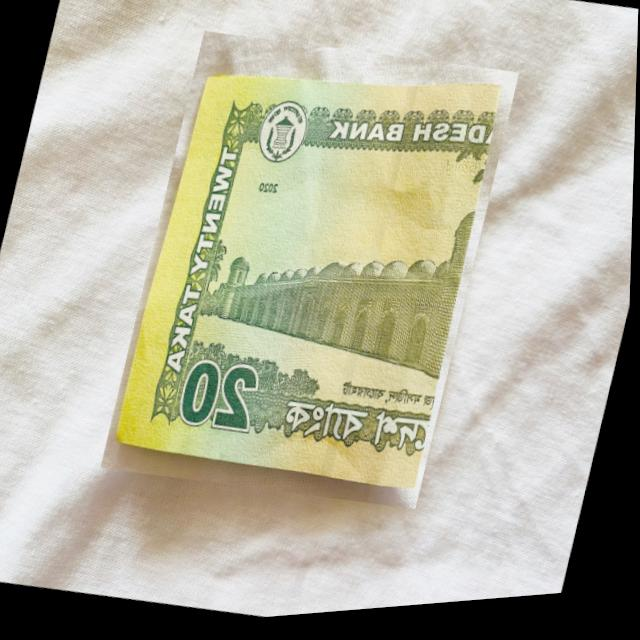Taka: (101, 14, 521, 537)
